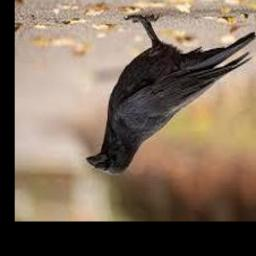Crow: (85, 13, 256, 175)
